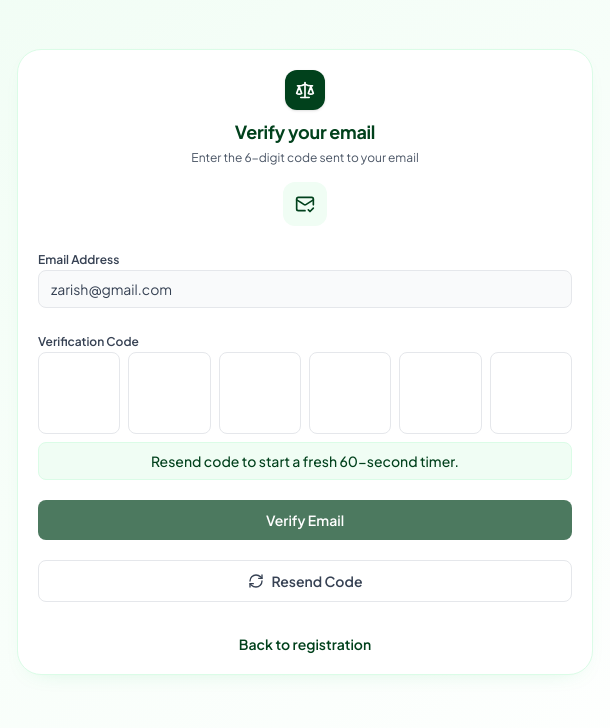
Test: VerifyEmail (OTP screen) › surfaces a wrong-code error from the backend
Click the field named "OTP digit 1". click: (79, 393)
box: x1=38 y1=352 x2=120 y2=434
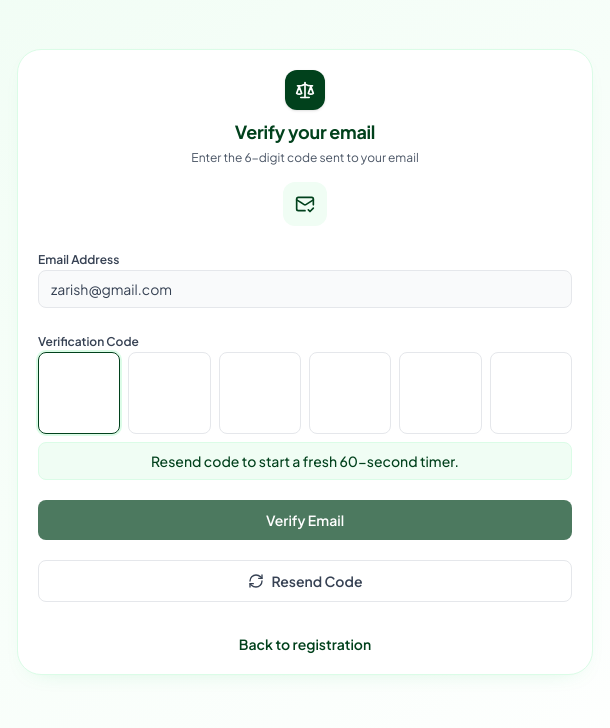
Type keys "000000"
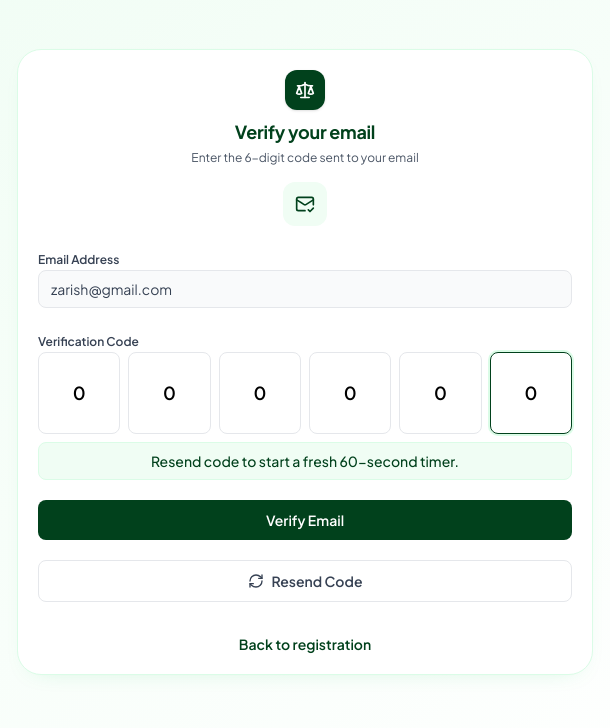
Now the button "Verify Email" is enabled
Click the button "Verify Email". click: (305, 520)
box: x1=38 y1=500 x2=572 y2=540
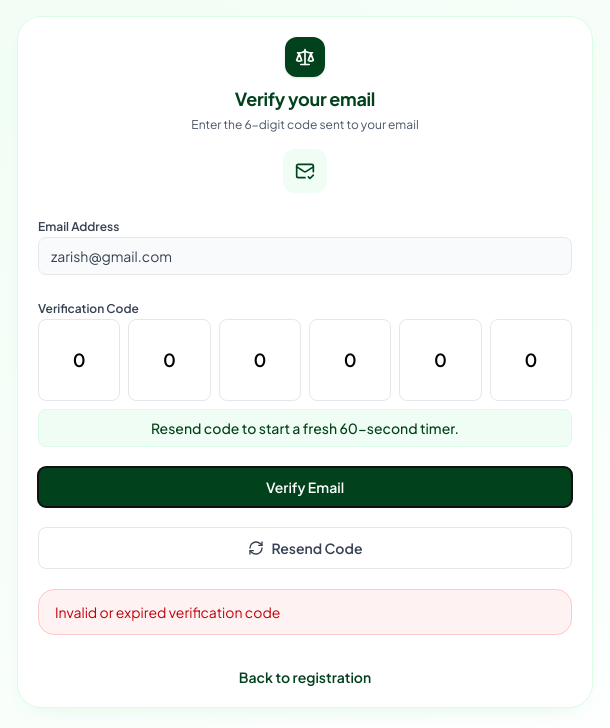
Now the text "Invalid or expired verification code" is shown, box x1=38 y1=589 x2=572 y2=635
